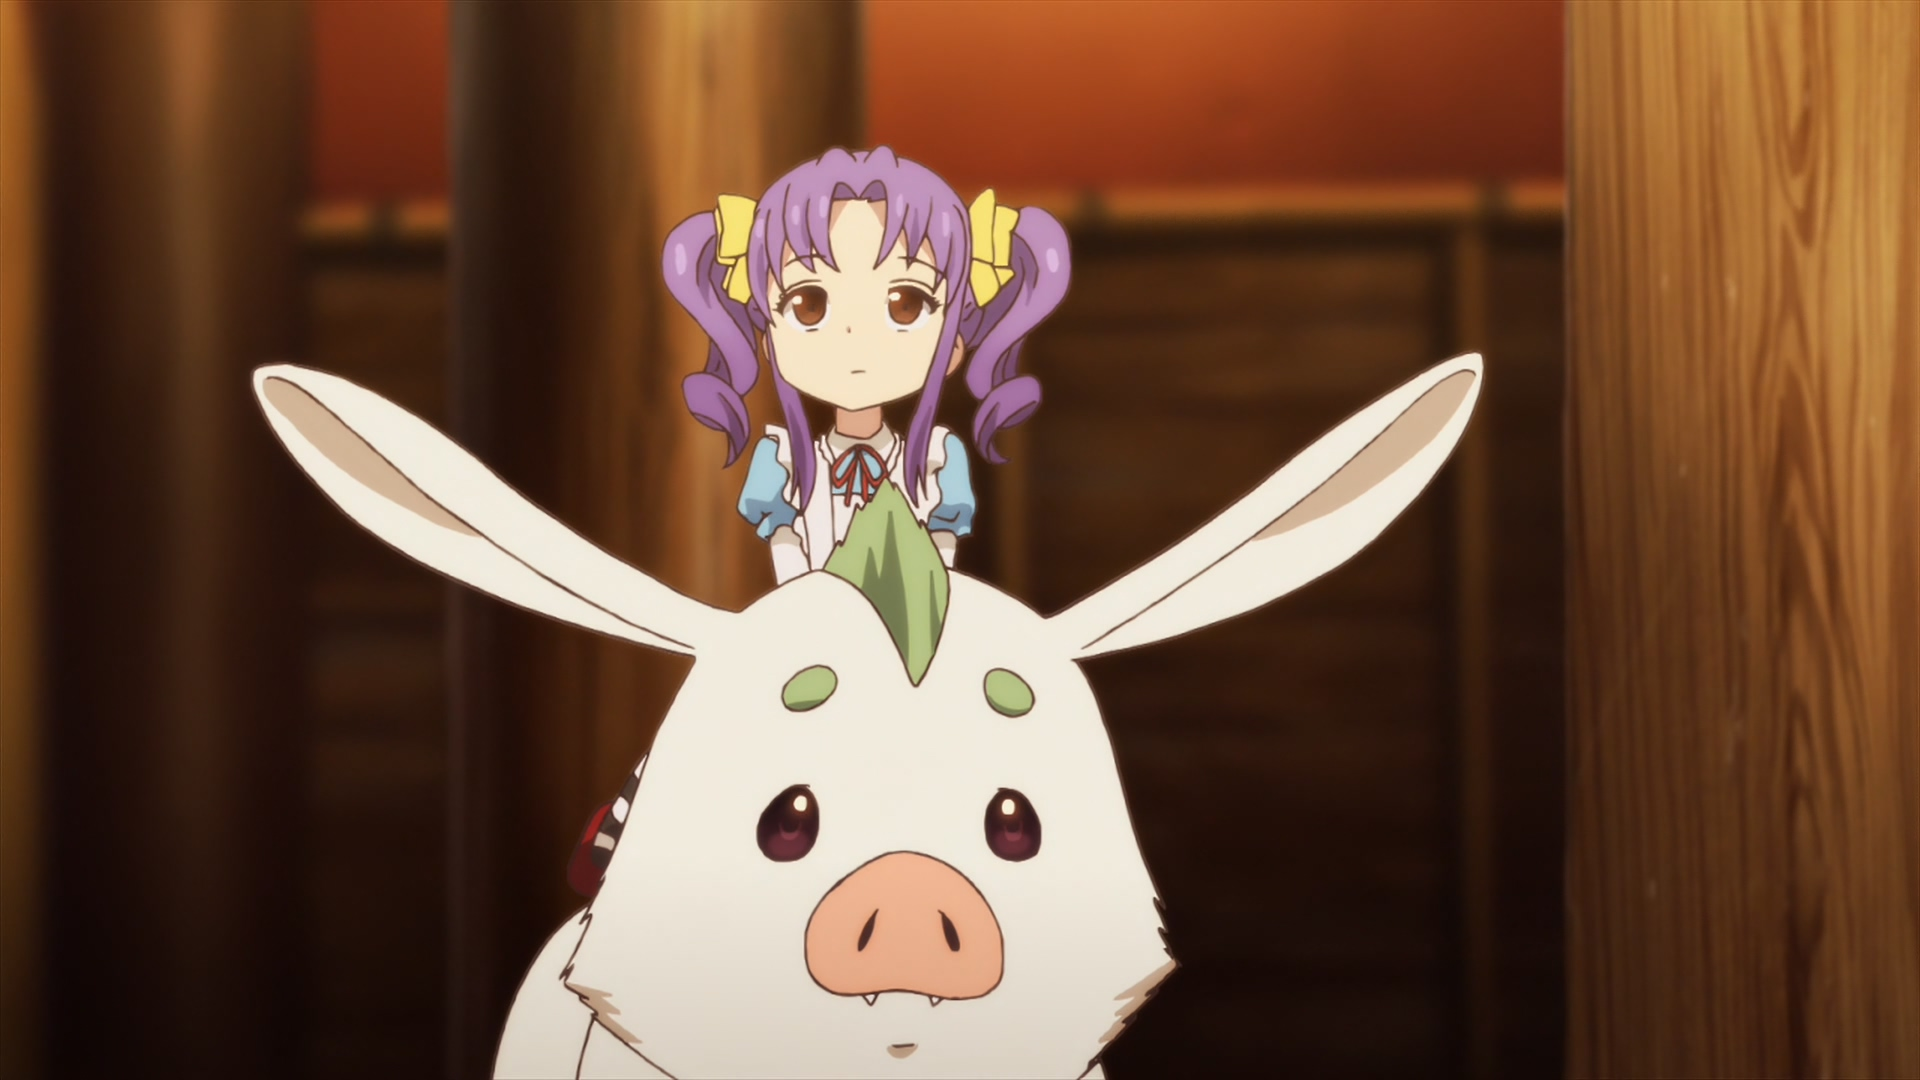瓜之介: (252, 353, 1484, 1080)
阿菊: (661, 145, 1069, 585)
